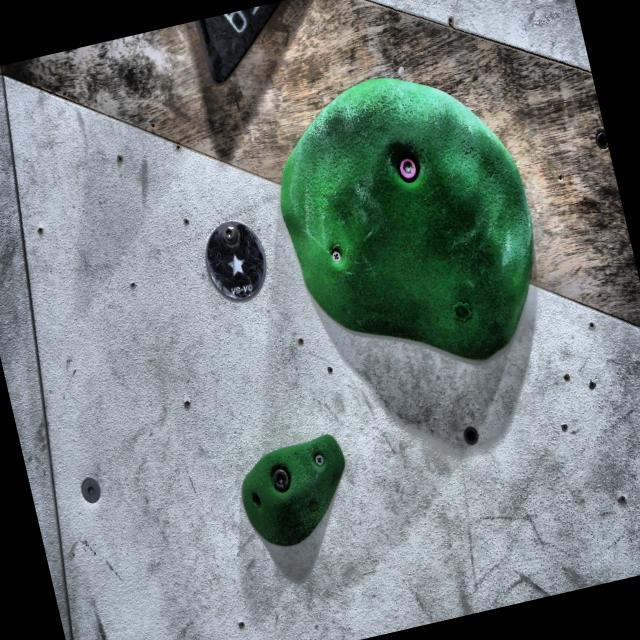Hold: (255, 45, 560, 400), (226, 418, 362, 560)
